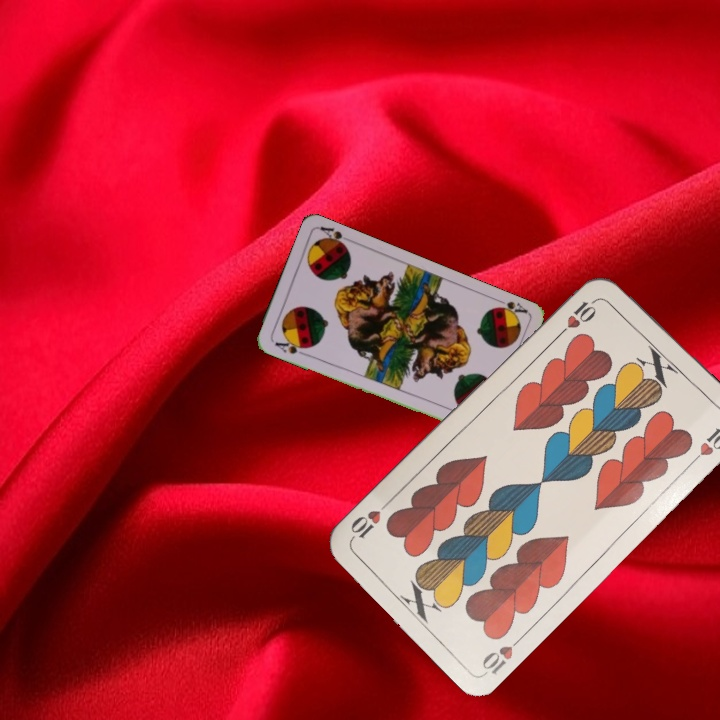H10: (478, 631, 527, 677), (553, 294, 600, 340)
SA: (489, 294, 530, 321), (270, 336, 310, 358)
